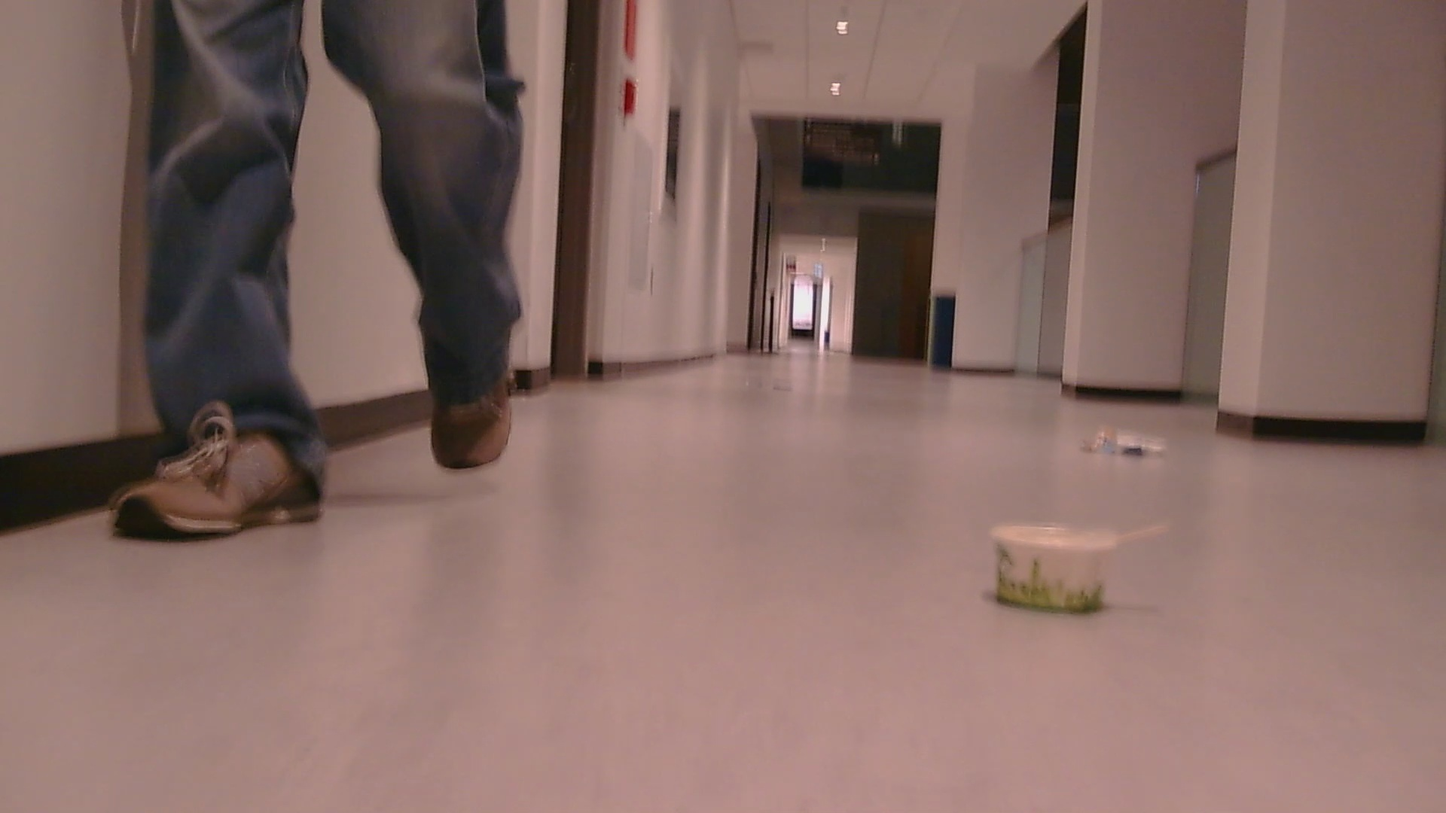carton: (969, 503, 1203, 613), (1086, 419, 1171, 462)
